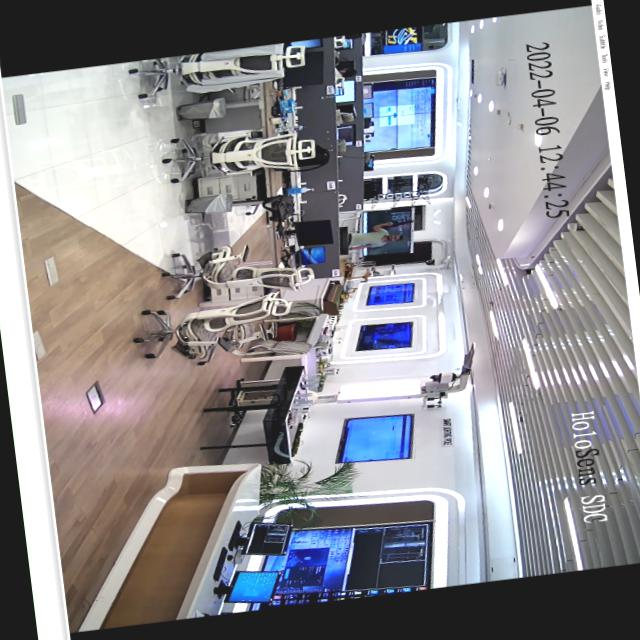long weapon: (384, 217, 416, 230)
